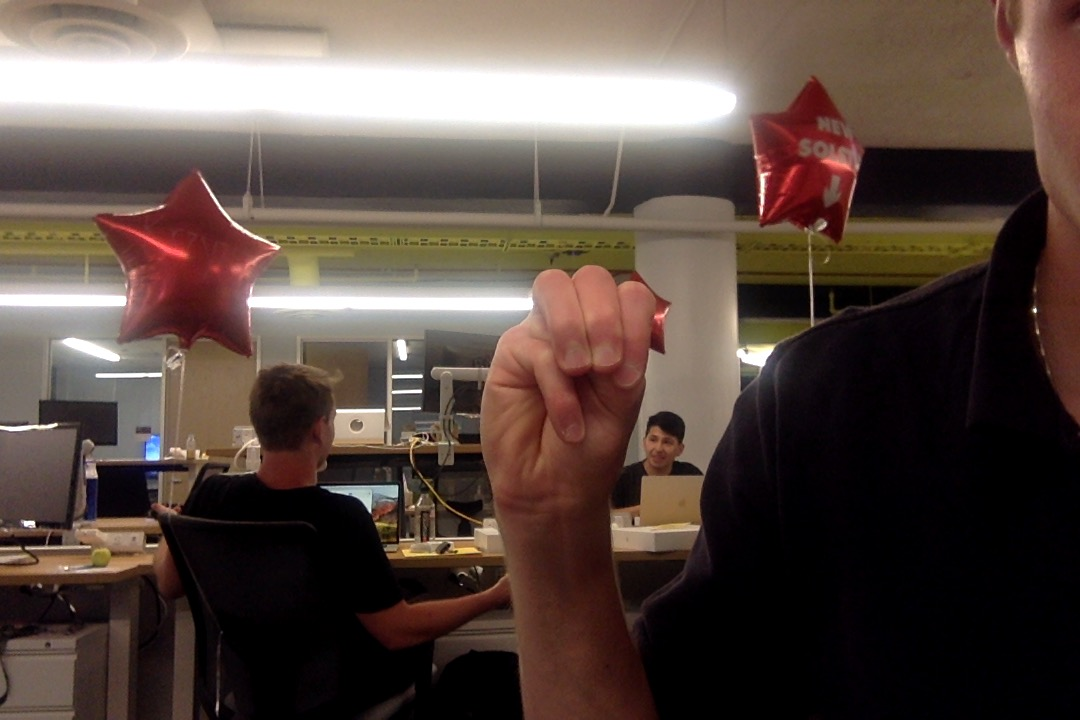m: (471, 256, 659, 527)
